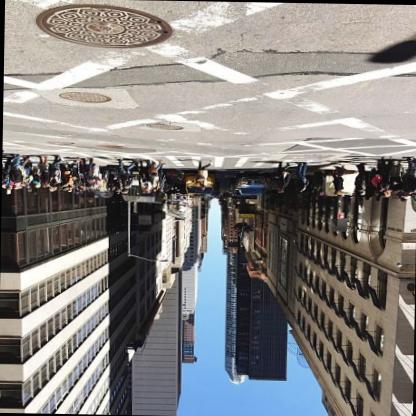manholes: (18, 0, 186, 62), (44, 80, 120, 112), (136, 114, 194, 142), (40, 130, 76, 155), (88, 138, 131, 154)
